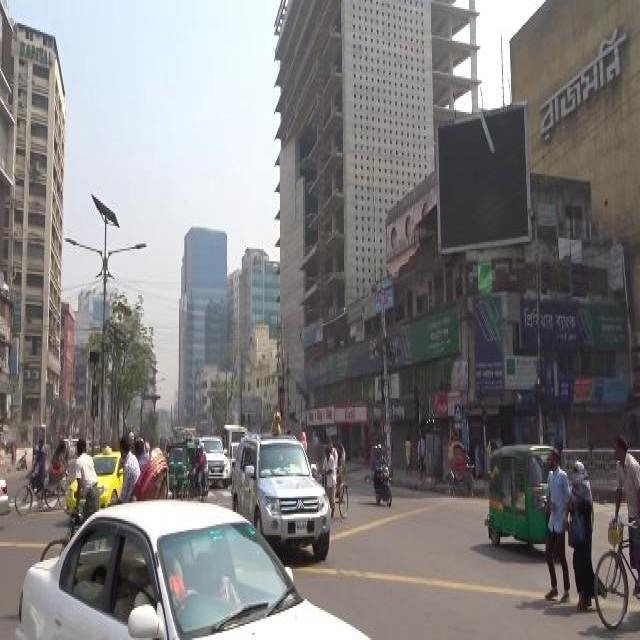10: (180, 444, 210, 502), (371, 441, 391, 505)
13: (38, 452, 174, 561), (14, 429, 72, 520), (316, 439, 350, 517), (447, 439, 475, 500)
16: (71, 437, 125, 523), (64, 442, 124, 514)
17: (484, 439, 568, 549), (167, 441, 196, 498)
5: (11, 496, 366, 638), (62, 436, 74, 456)
9: (229, 426, 339, 570), (192, 433, 230, 488)
Truck: (171, 425, 183, 439)
